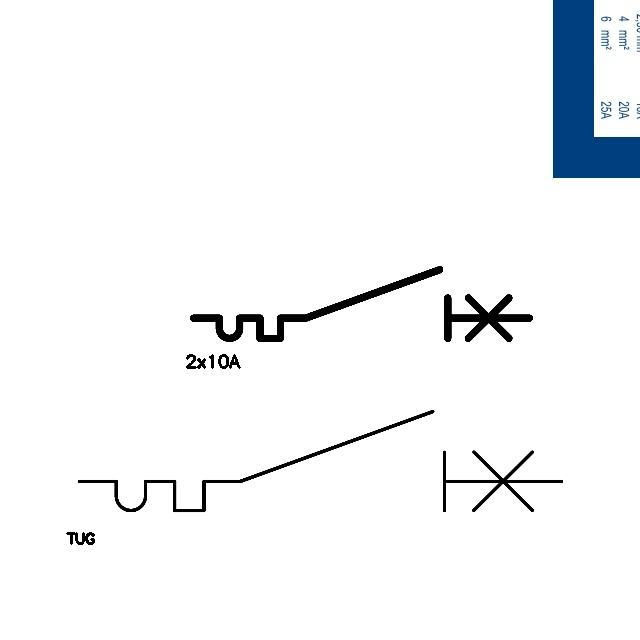interruptor_termomagnetico: (67, 399, 574, 523), (185, 261, 538, 347)
